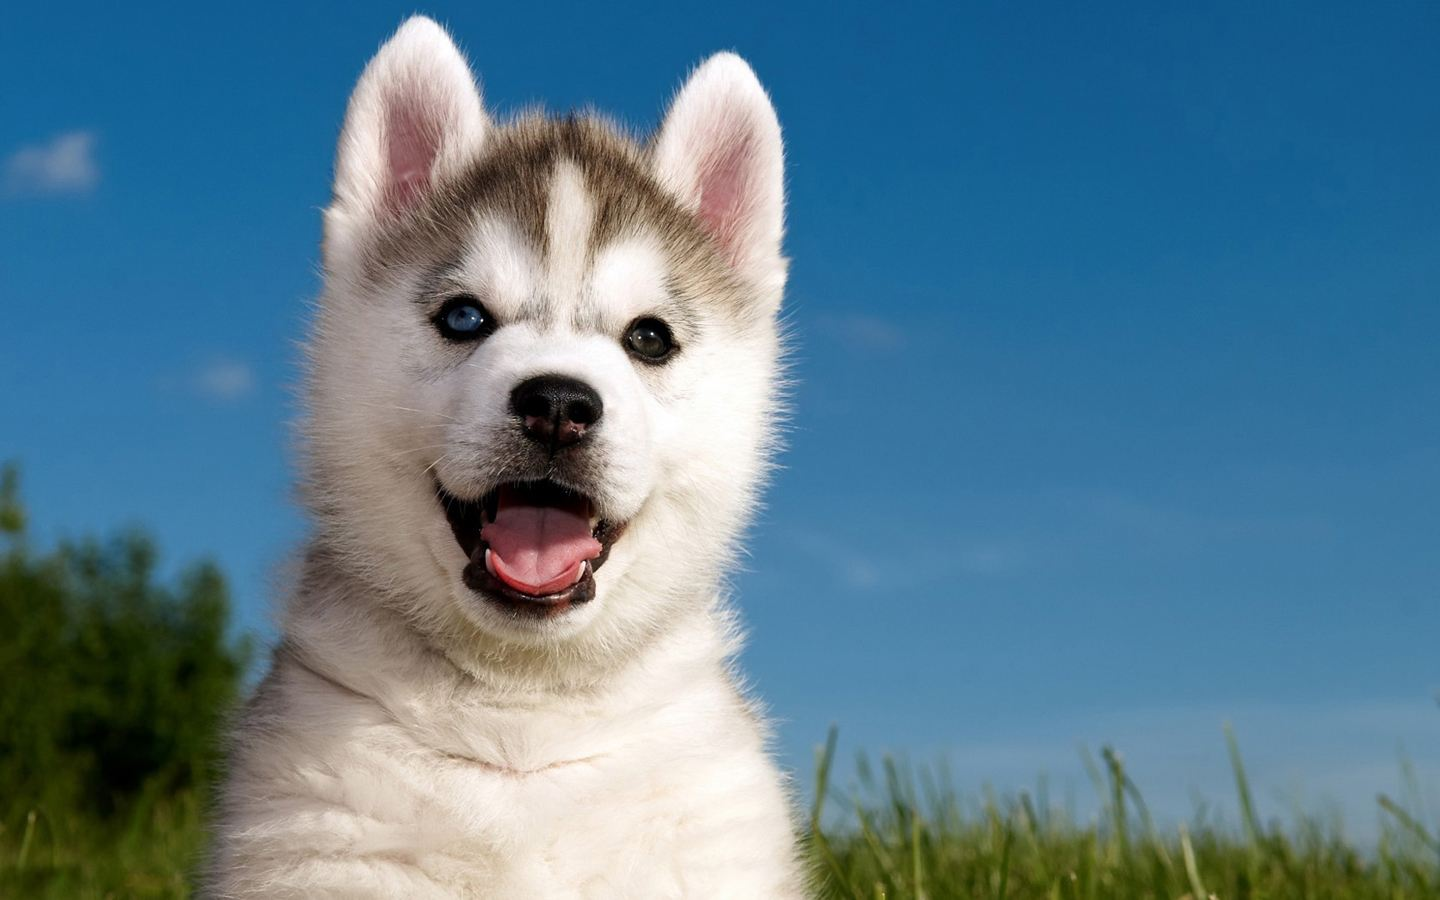dog: (228, 15, 808, 900)
